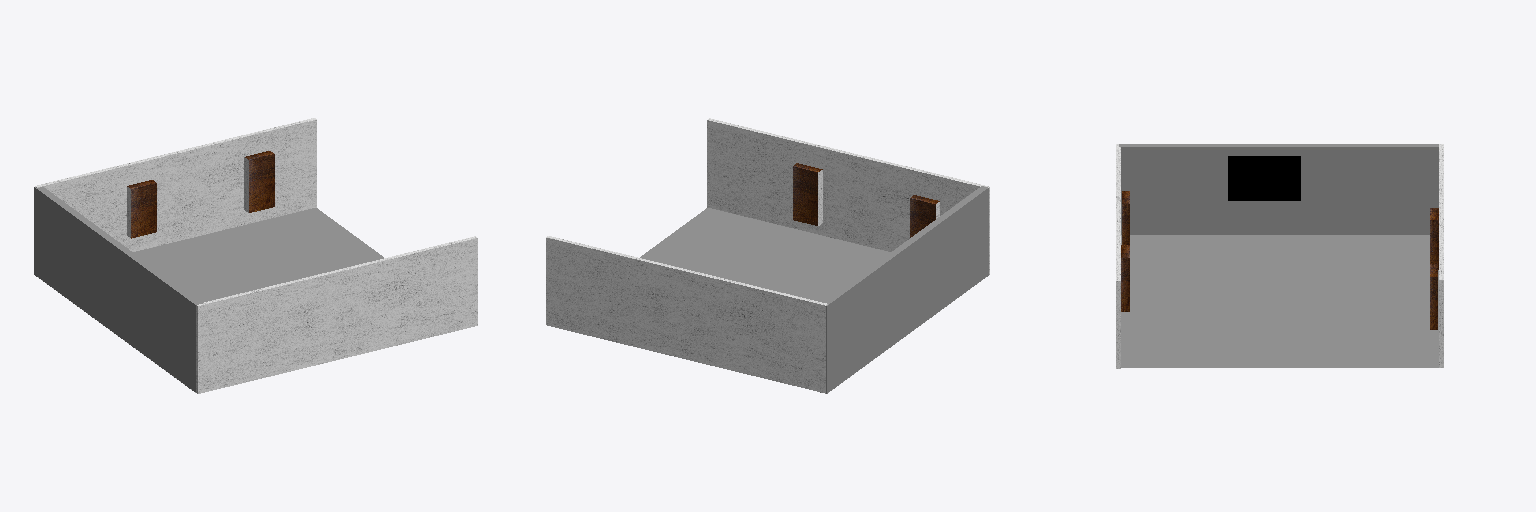
The picture shows the model from 3 angles: view 1: azimuth 30°, elevation 25°; view 2: azimuth 150°, elevation 25°; view 3: azimuth 270°, elevation 25°; orthographic projection.
Visible parts, largest first — view 1: Cube.004_Cube.006, Cube.003, Cube.001_Cube.002, Cube.005_Cube.001; view 2: Cube.003, Cube.004_Cube.006, Cube.001_Cube.002, Cube.005_Cube.001; view 3: Cube.005_Cube.001, Cube.001_Cube.002, Cube.009_Cube.010, Cube.003, Cube.004_Cube.006.
Part boxes in pixels (bbox=[...]): Cube.004_Cube.006: bbox=[196, 236, 477, 393]; Cube.003: bbox=[35, 118, 316, 251]; Cube.001_Cube.002: bbox=[34, 187, 202, 391]; Cube.005_Cube.001: bbox=[35, 208, 383, 392]; Cube.003: bbox=[546, 236, 827, 393]; Cube.004_Cube.006: bbox=[707, 118, 989, 273]; Cube.001_Cube.002: bbox=[820, 186, 988, 393]; Cube.005_Cube.001: bbox=[640, 208, 989, 392]; Cube.005_Cube.001: bbox=[1121, 235, 1438, 367]; Cube.001_Cube.002: bbox=[1119, 144, 1438, 234]; Cube.009_Cube.010: bbox=[1228, 156, 1300, 200]; Cube.003: bbox=[1430, 144, 1443, 367]; Cube.004_Cube.006: bbox=[1116, 144, 1129, 368].
Size of the model in its own units: 61.16 by 18.39 by 61.63.
Materials: 4 (2 with a texture image).